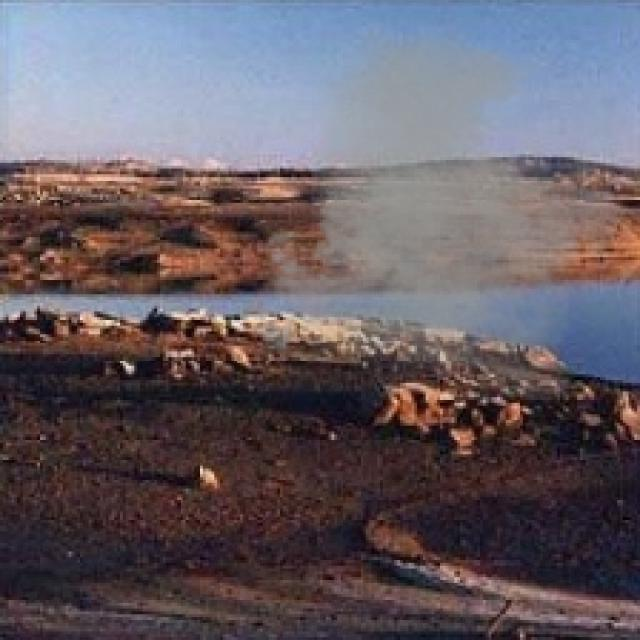Smoke: (240, 23, 637, 406)
